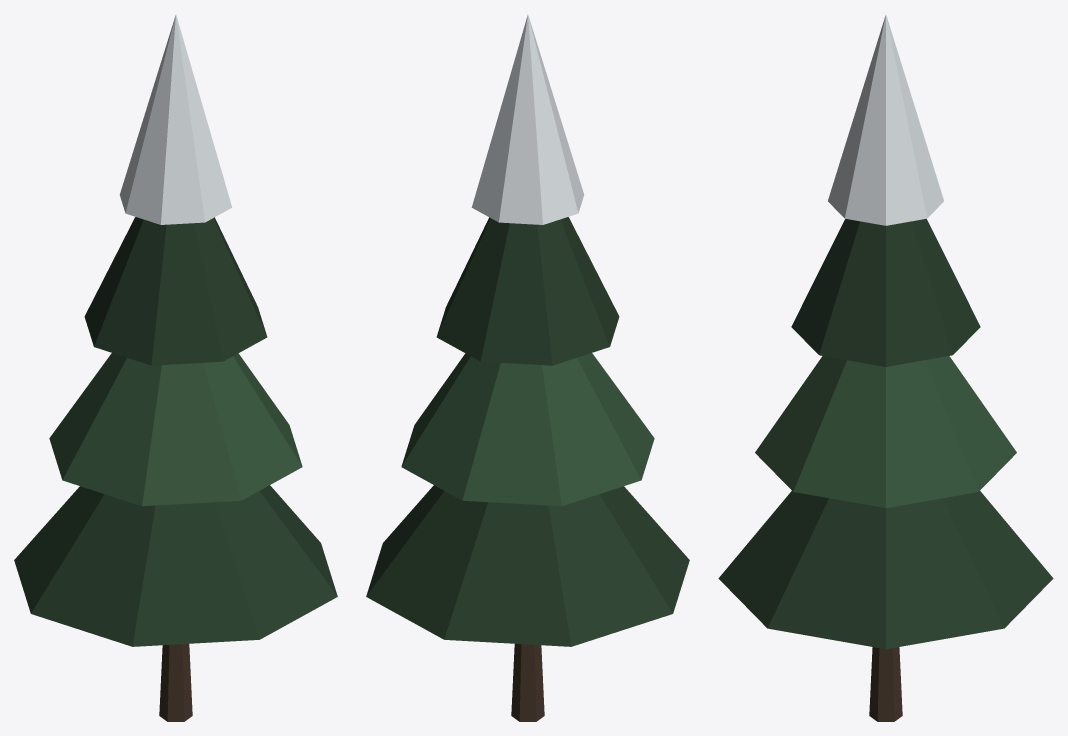
Rendered from conifer-v1-winter.glb.
The picture shows the model from 3 angles, left to right: view 1: azimuth 30°, elevation 25°; view 2: azimuth 150°, elevation 25°; view 3: azimuth 270°, elevation 25°; orthographic projection.
Parts seen in each view (by area): view 1: conifer_v1; view 2: conifer_v1; view 3: conifer_v1.
Boxes of the visible parts, <box> form: conifer_v1: <box>14,15,337,721</box>; conifer_v1: <box>366,15,689,721</box>; conifer_v1: <box>718,15,1053,721</box>.
Size of what is drawn, in the model's own units: 5.22 by 12.06 by 5.22.
